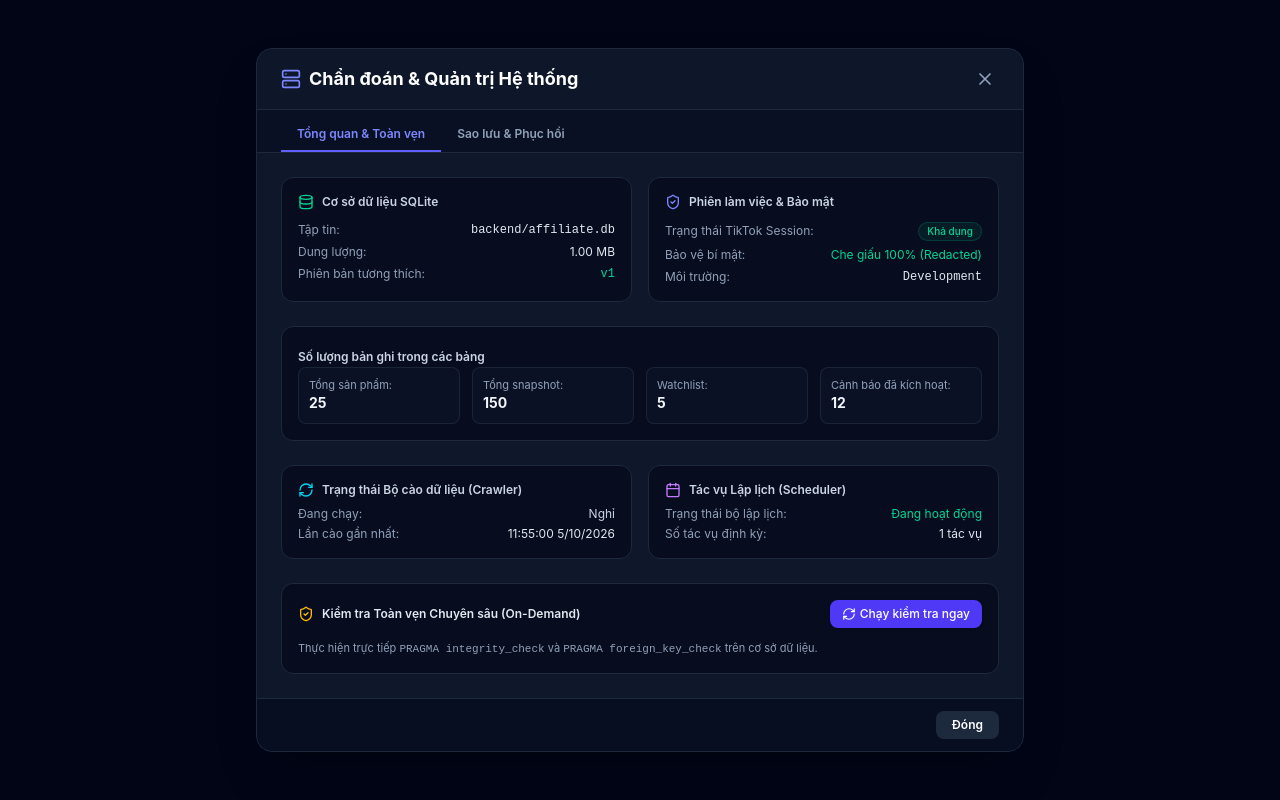
Test: Phase 4 — Frontend Export & Diagnostics (P4-AC-27, P4-AC-28, P4-AC-32) › System Diagnostics Modal (P4-AC-25, P4-AC-26, P4-AC-28) › navigates tabs to Operator Backup & Restore Guide with command instructions
The width and height of the screenshot is (1280, 800).
Expected: the text "backend/affiliate.db" is shown, [471, 222, 615, 238]
// Switch to Backup & Restore tab
Click the button "Sao lưu & Phục hồi" at (511, 135), box [441, 118, 581, 152]
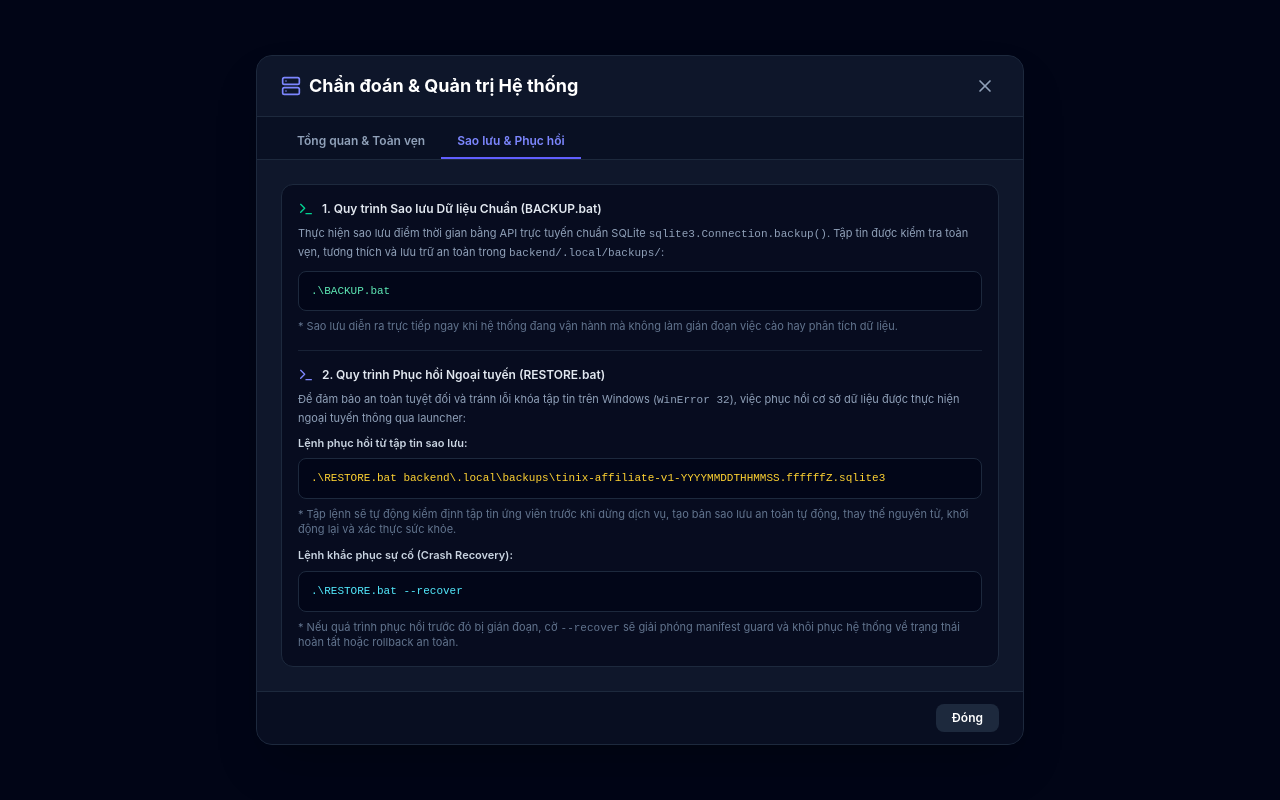
Expected: the text ".\\BACKUP.bat" is shown, [298, 271, 982, 311]
Expected: the text ".\\RESTORE.bat --recover" is shown, [298, 571, 982, 612]
Expected: the text "backend\\.local\\backups\\" is shown, [311, 472, 885, 484]
